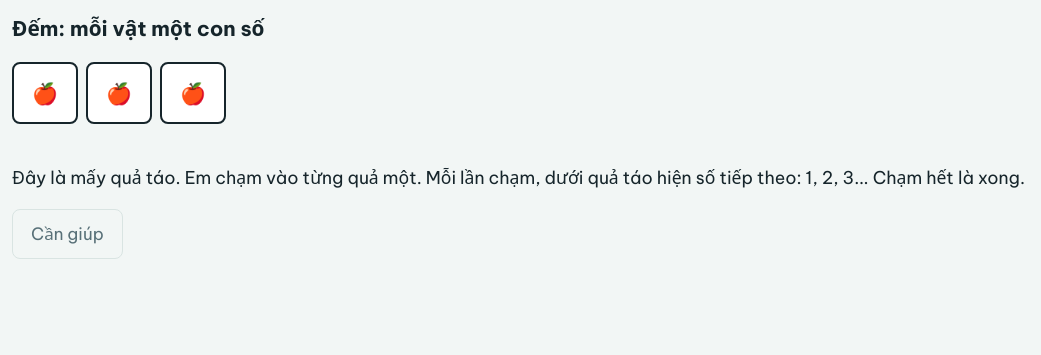
k1: đếm quả táo › chạm lần lượt: số đếm 1,2,3 hiện dưới đúng vật vừa chạm, rồi qua bước sau
Click the 3rd button "🍎" at [193, 93], box [160, 62, 226, 124]
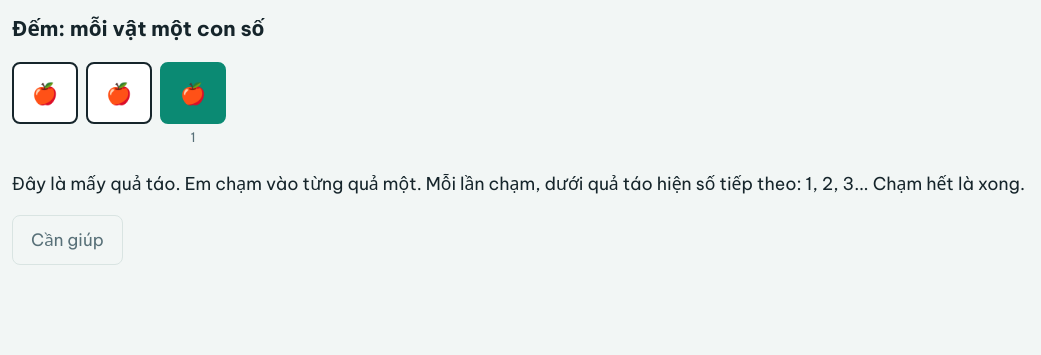
Click the 1st button "🍎" at [45, 93], box [12, 62, 78, 124]
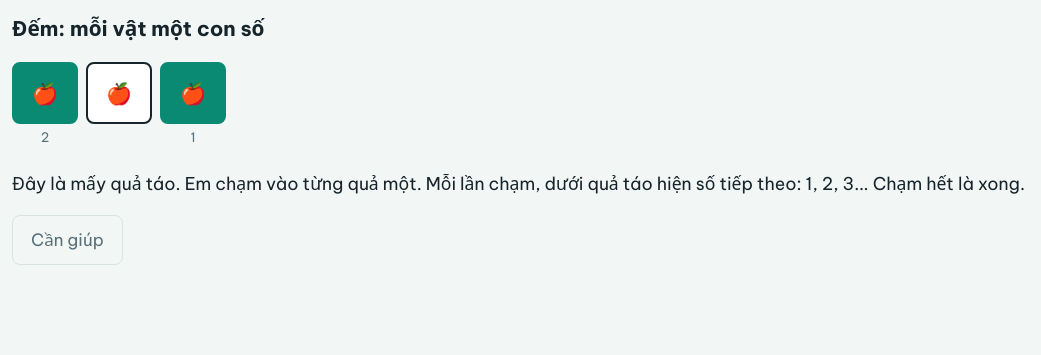
Click the 2nd button "🍎" at [119, 93], box [86, 62, 152, 124]
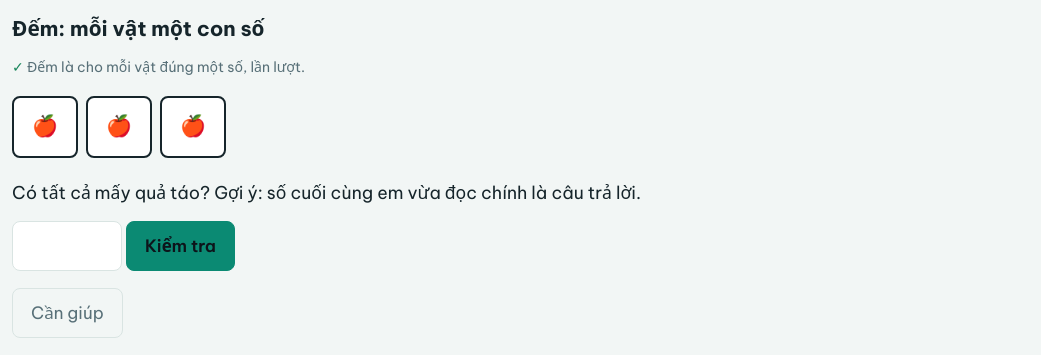
Now the text "Có tất cả mấy quả táo" is shown, box [12, 180, 641, 204]
